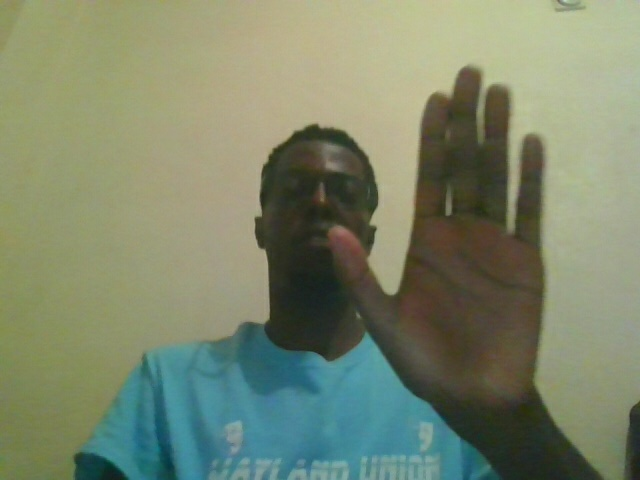hello: (301, 35, 628, 450)
